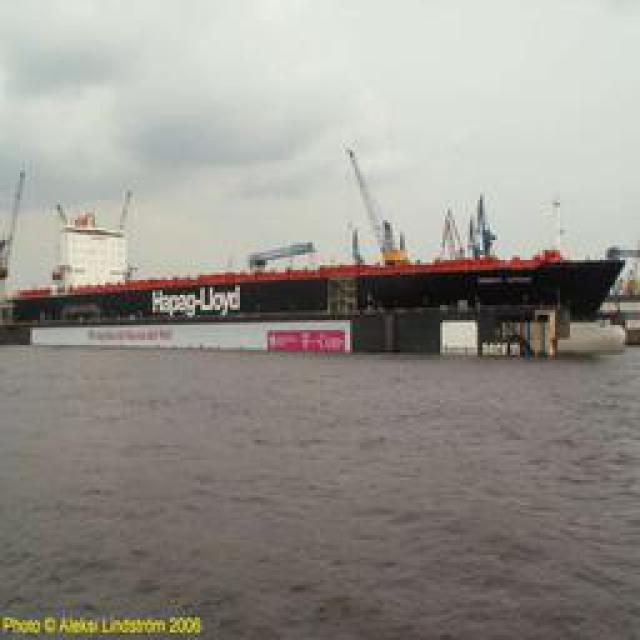Ship: (12, 167, 612, 355)
